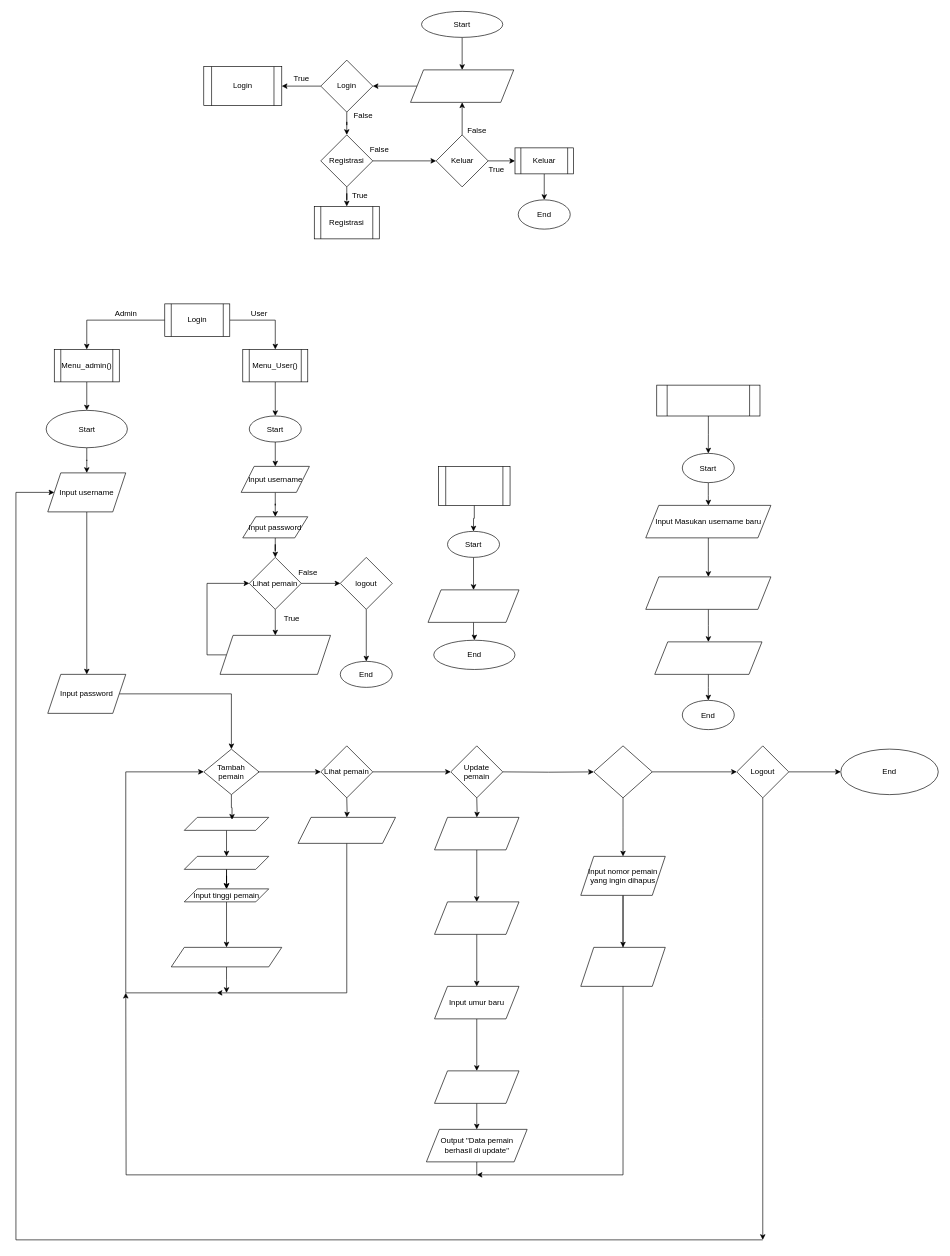
The diagram is 950 pixels wide and 1256 high, and some of its shapes have lost their labels. Each missing label, with the centre of its shape:
Hapus pemain: point (622, 771)
Input Masukan password baru: point (708, 592)
Input nama baru: point (476, 917)
Input nama pemain: point (226, 823)
Input nomor pemain yang ingin di update: point (476, 833)
input pilihan menu: point (462, 85)
Input tinggi baru: point (476, 1086)
Input umur pemain: point (226, 862)
Menu_Keluar(): point (474, 485)
Menu_Registrasi(): point (708, 400)
Output "--- Daftar pemain---": point (275, 654)
Output "Daftar pemain": point (346, 830)
Output "Pemain berhasil dihapus": point (622, 966)
Output "Pemain berhasil ditambahkan: point (226, 957)
Output "Terima kasih telah menggunakan program ini": point (473, 605)
Output "User berhasil didaftarkan": point (708, 657)
